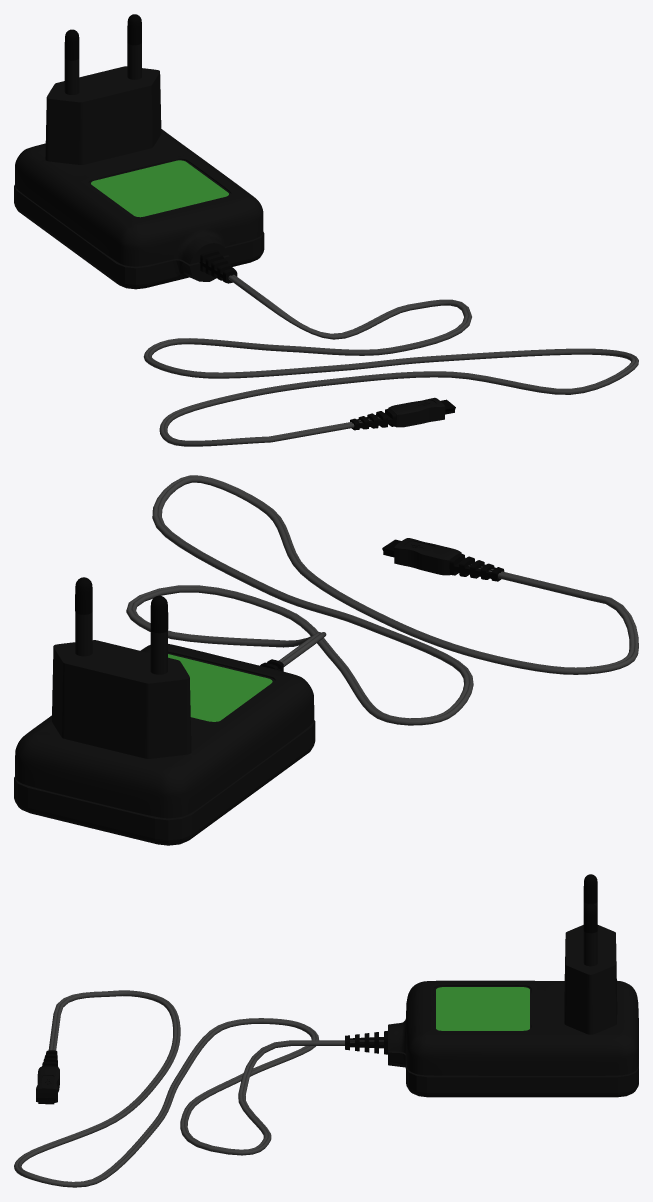
The model's file is charger.FBX.
3 views of the same model, one above another, from view 1: azimuth 30°, elevation 25°; view 2: azimuth 150°, elevation 25°; view 3: azimuth 270°, elevation 25° (orthographic). The views are drawn at different scales.
Visible parts, largest first — view 1: housing, wire, cover, lejb1, usb enclosure, flexible insert1, flexible insert2; view 2: housing, wire, cover, lejb1, usb enclosure, flexible insert2, contact2, contact1; view 3: housing, wire, cover, lejb1, flexible insert1, usb enclosure.
Part boxes in pixels (x1,y1,x2,y2): housing: [15, 43, 263, 266]; wire: [143, 274, 638, 446]; cover: [14, 185, 264, 289]; lejb1: [91, 160, 228, 217]; usb enclosure: [388, 397, 445, 427]; flexible insert1: [199, 249, 237, 283]; flexible insert2: [350, 408, 396, 430]; housing: [15, 612, 314, 818]; wire: [126, 475, 638, 725]; cover: [14, 720, 315, 845]; lejb1: [168, 654, 272, 721]; usb enclosure: [394, 538, 461, 575]; flexible insert2: [449, 553, 504, 581]; contact2: [150, 595, 168, 633]; contact1: [75, 577, 92, 614]; housing: [388, 901, 638, 1075]; wire: [14, 990, 383, 1187]; cover: [388, 1051, 638, 1097]; lejb1: [436, 987, 529, 1030]; flexible insert1: [345, 1031, 387, 1054]; usb enclosure: [36, 1066, 59, 1102].
Bounding box in the file's own units: 130 × 57.47 × 172.
